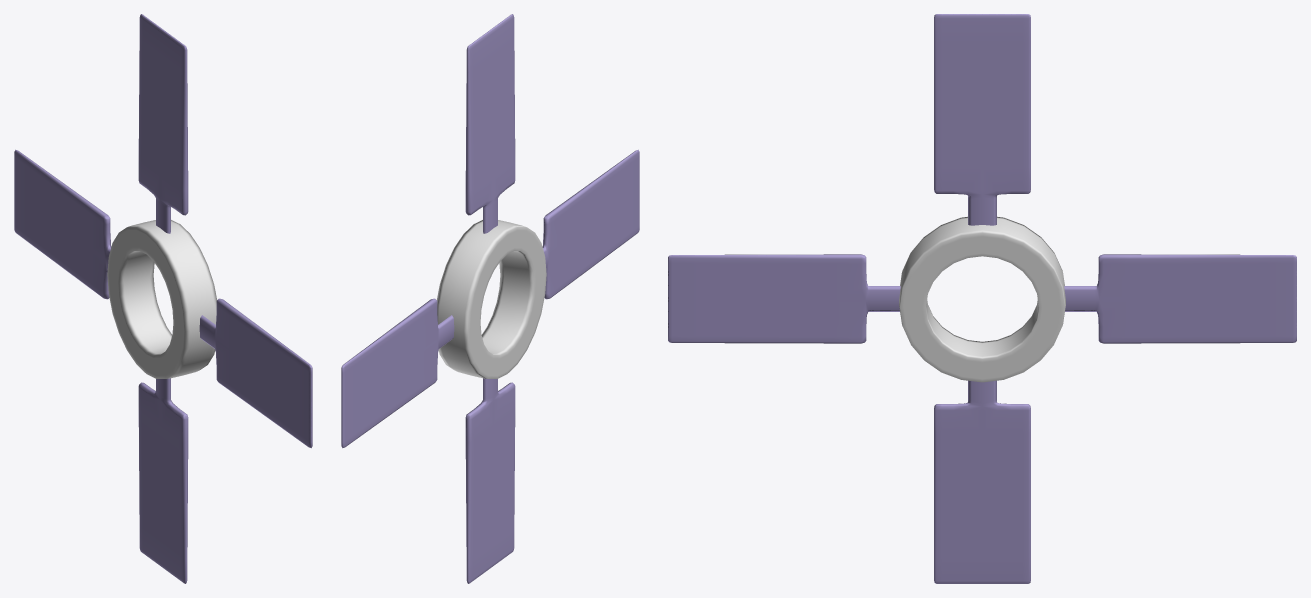
Rendered from 4blade_prop_round.dae.
The picture shows the model from 3 angles, left to right: view 1: azimuth 30°, elevation 25°; view 2: azimuth 150°, elevation 25°; view 3: azimuth 270°, elevation 25°; orthographic projection. The views are drawn at different scales.
Visible parts, largest first — view 1: Cylinder_003, Cube_002, Cube_006, Cube_008, Cube_007; view 2: Cylinder_003, Cube_002, Cube_006, Cube_007, Cube_008; view 3: Cube_007, Cube_008, Cube_002, Cube_006, Cylinder_003.
Boxes of the visible parts, x1,y1,x2,y2 form: Cylinder_003: (107,220,216,378); Cube_002: (138,14,188,233); Cube_006: (138,378,188,583); Cube_008: (199,298,312,448); Cube_007: (14,149,111,299); Cylinder_003: (437,220,546,378); Cube_002: (465,14,515,233); Cube_006: (465,378,515,583); Cube_007: (341,298,454,448); Cube_008: (542,149,639,299); Cube_007: (1064,254,1296,343); Cube_008: (668,254,900,343); Cube_002: (934,14,1030,225); Cube_006: (934,380,1030,583); Cylinder_003: (899,216,1065,382).
Bounding box in the file's own units: 0.3561 × 5.4 × 5.4.
